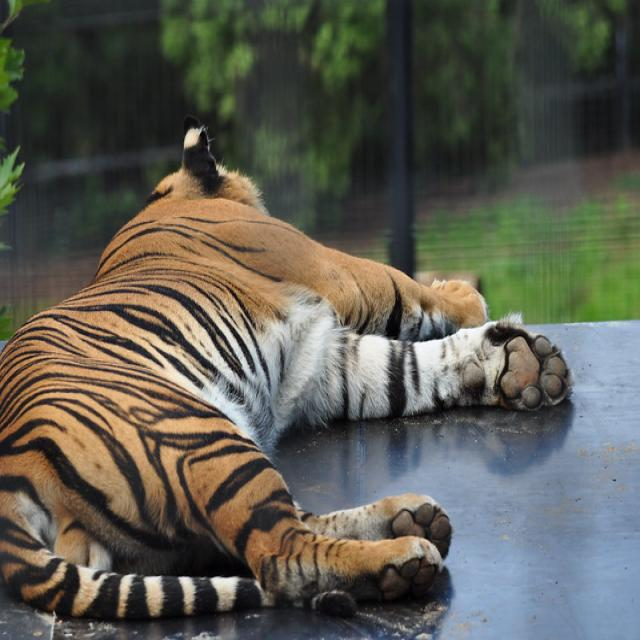Tiger: (1, 109, 574, 635)
